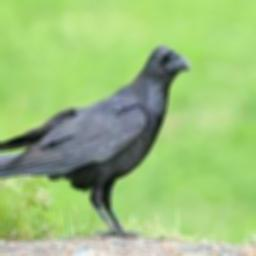Crow: (0, 43, 191, 239)
